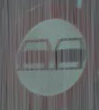No overtake: (12, 8, 92, 93)
